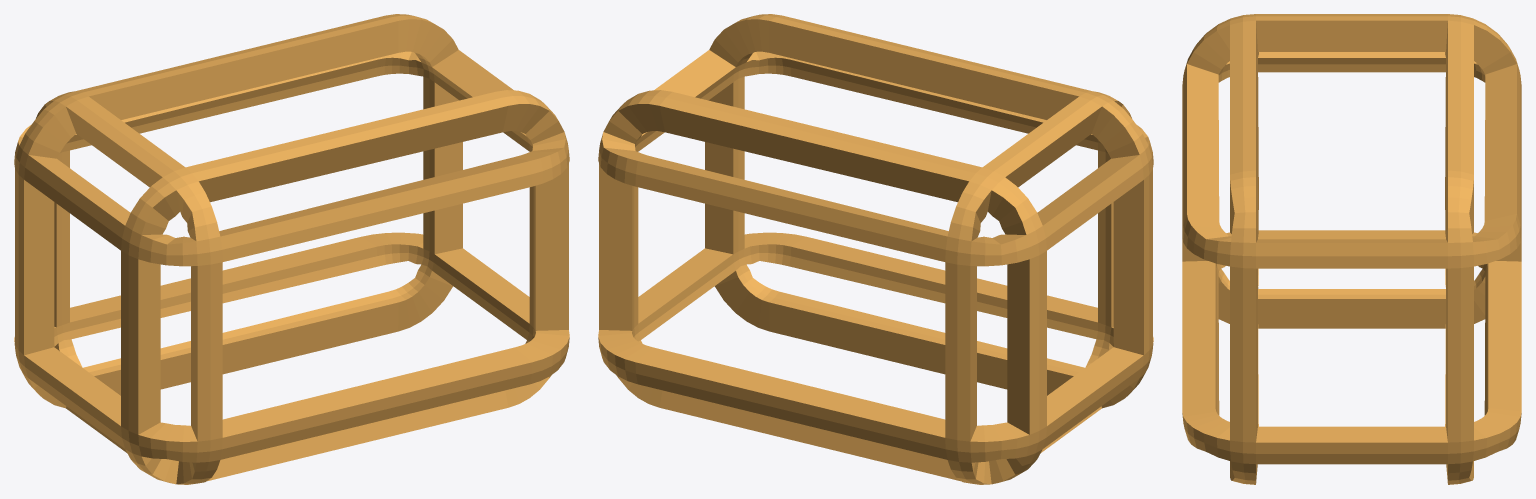
Rendered from RoundCubeMesh_02.fbx.
3 renders of one model, left to right at view 1: azimuth 30°, elevation 25°; view 2: azimuth 150°, elevation 25°; view 3: azimuth 270°, elevation 25°, orthographic.
Parts seen in each view (by area): view 1: RoundCubeMesh_02; view 2: RoundCubeMesh_02; view 3: RoundCubeMesh_02.
Part boxes in pixels (x1=…): RoundCubeMesh_02: x1=14, y1=14, x2=569, y2=484; RoundCubeMesh_02: x1=598, y1=14, x2=1153, y2=484; RoundCubeMesh_02: x1=1182, y1=14, x2=1521, y2=484.
Bounding box in the file's own units: 374 × 253 × 253.
